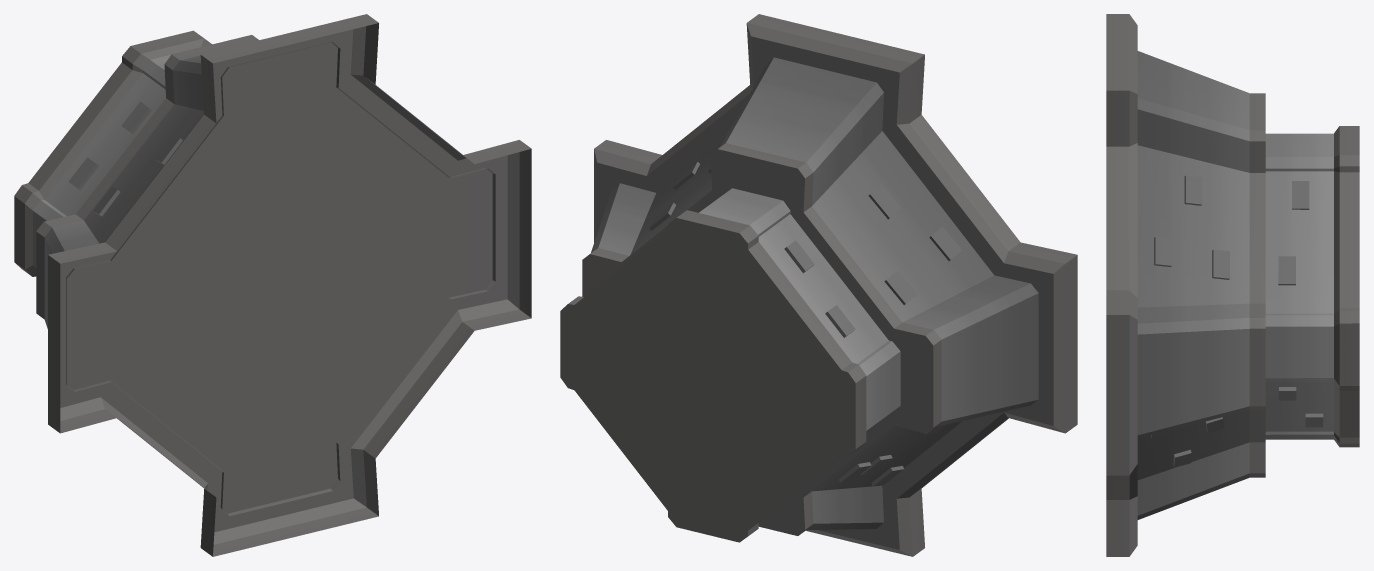
Rendered from MayorStatue_Base_C.fbx.
The picture shows the model from 3 angles, left to right: view 1: azimuth 30°, elevation 25°; view 2: azimuth 150°, elevation 25°; view 3: azimuth 270°, elevation 25°; orthographic projection. The views are drawn at different scales.
Parts seen in each view (by area): view 1: MayorStatue_Base_C; view 2: MayorStatue_Base_C; view 3: MayorStatue_Base_C.
Boxes of the visible parts, x1,y1,x2,y2 form: MayorStatue_Base_C: [14, 14, 531, 556]; MayorStatue_Base_C: [560, 14, 1077, 556]; MayorStatue_Base_C: [1106, 14, 1359, 556].
Bounding box in the file's own units: 1144 × 1144 × 563.
